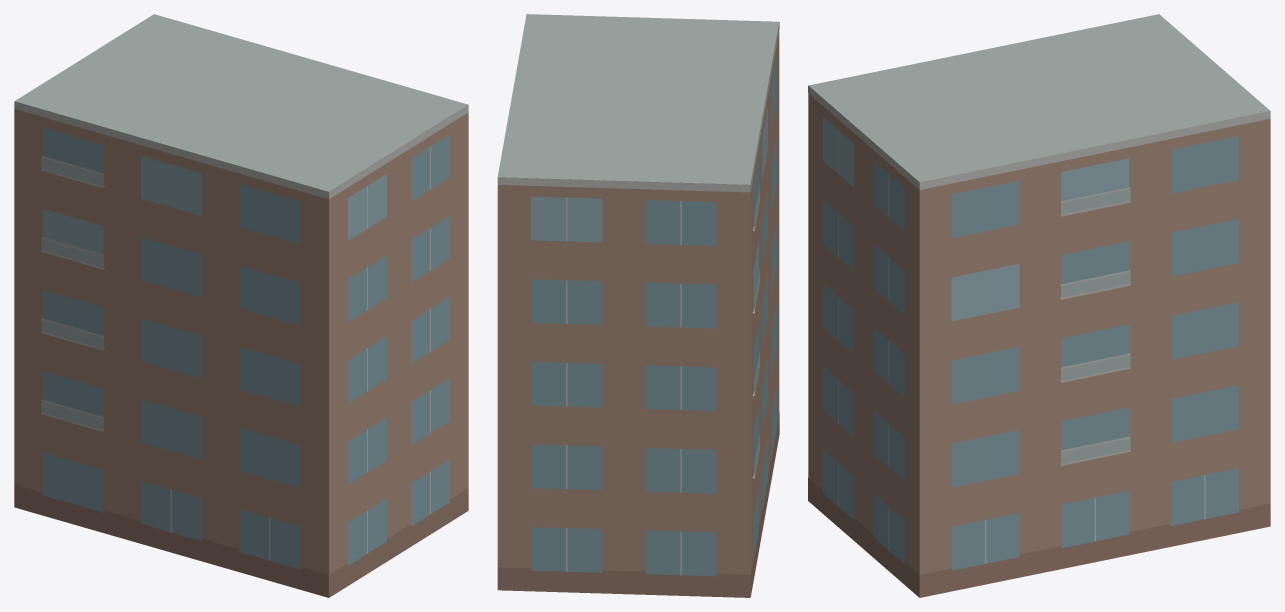
File: survey-upis-32718351.glb
The picture shows the model from 3 angles, left to right: view 1: azimuth 30°, elevation 25°; view 2: azimuth 150°, elevation 25°; view 3: azimuth 270°, elevation 25°; orthographic projection. The views are drawn at different scales.
Parts seen in each view (by area): view 1: survey-upis-32718351.tmp; view 2: survey-upis-32718351.tmp; view 3: survey-upis-32718351.tmp.
Part boxes in pixels (box(x1,y1,x2,y2)): survey-upis-32718351.tmp: box(14, 14, 468, 597); survey-upis-32718351.tmp: box(497, 14, 779, 597); survey-upis-32718351.tmp: box(808, 14, 1270, 597).
Size of the model in its own units: 11.48 by 13.2 by 13.32.
